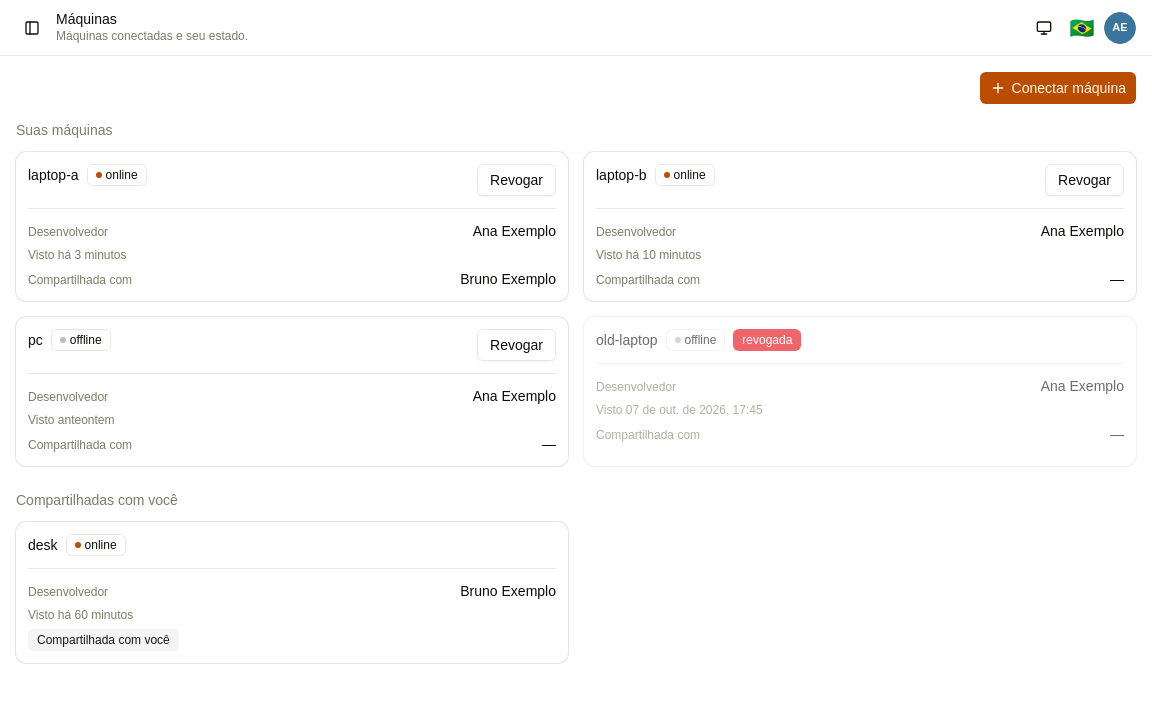
Scenario: connect machine dialog › dismisses the success toast by keyboard with its labeled button, and focus does not stay inside the toast region
Click the button "Conectar máquina" at (1058, 88), box x1=980 y1=72 x2=1136 y2=104
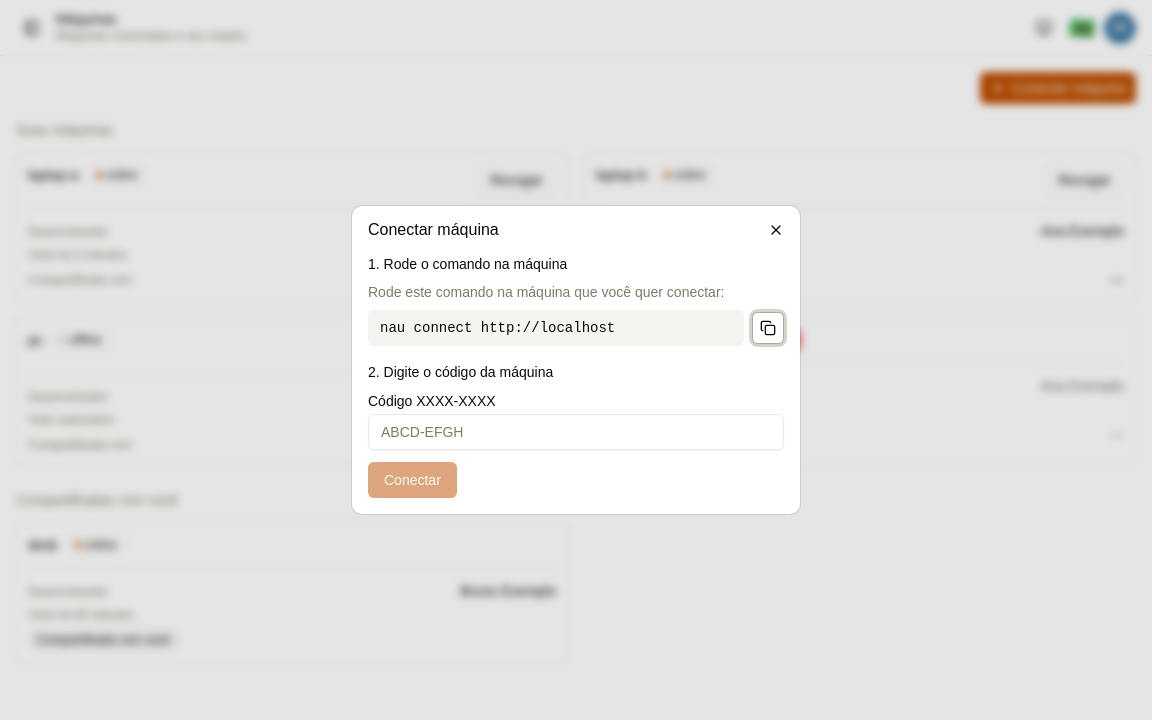
Type "abcd-efgh" into the field labelled "Código XXXX-XXXX" at (576, 432), box x1=368 y1=414 x2=784 y2=450
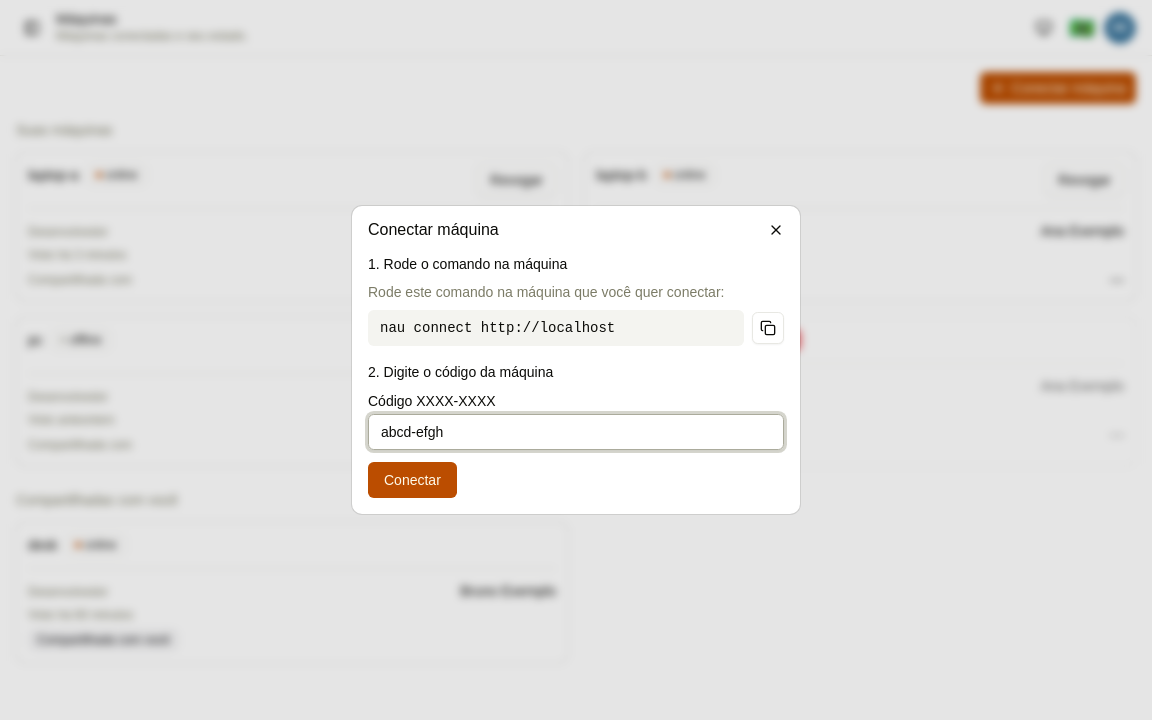
Click the button "Conectar" at (412, 480), box x1=368 y1=462 x2=457 y2=498
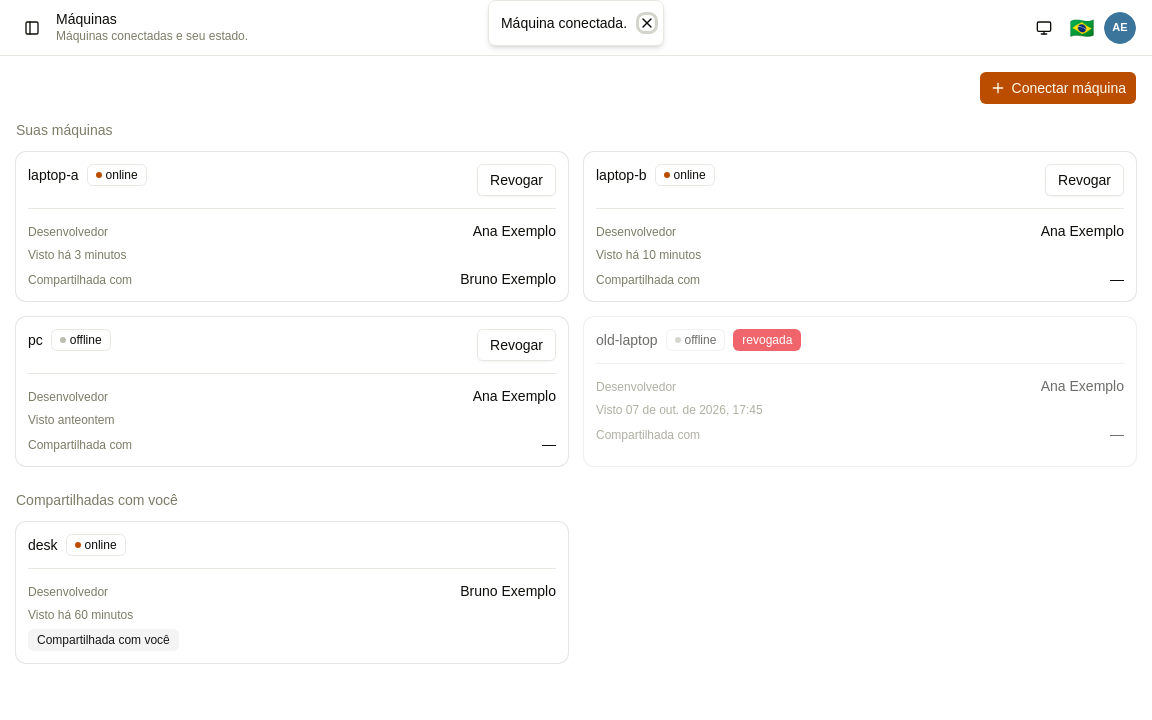
Expected: the heading "Máquina conectada." is shown, x1=501 y1=13 x2=627 y2=33
Press Enter
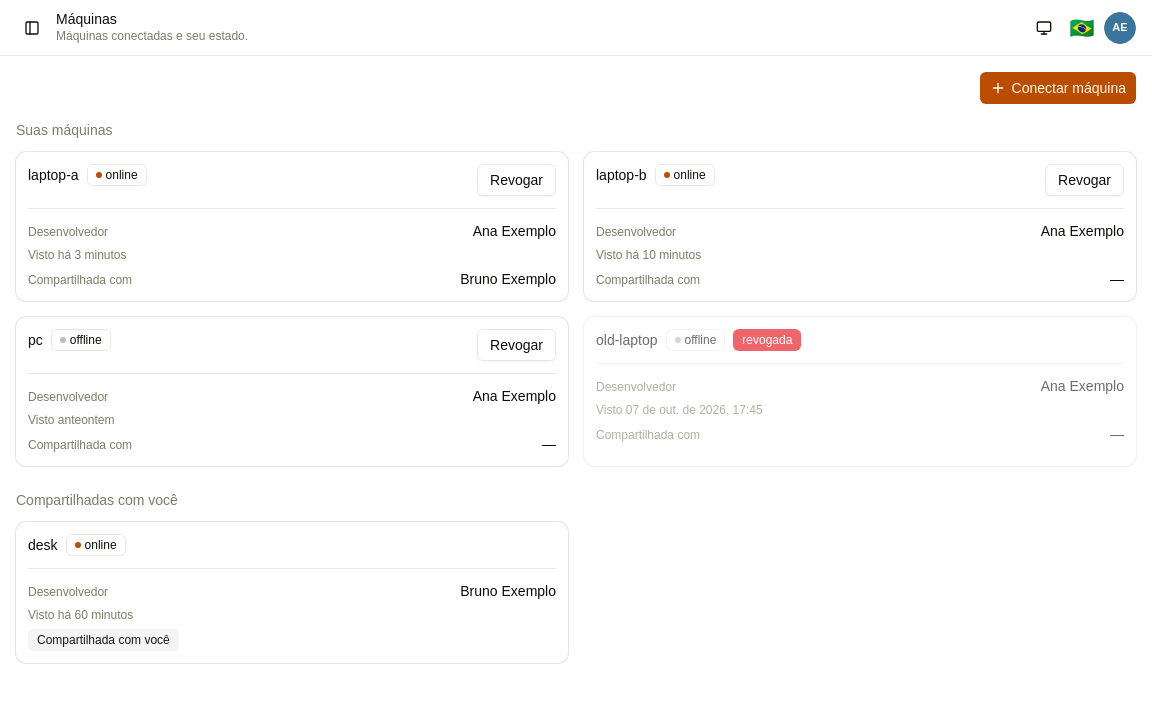
Expected: the heading "Máquina conectada." is gone
